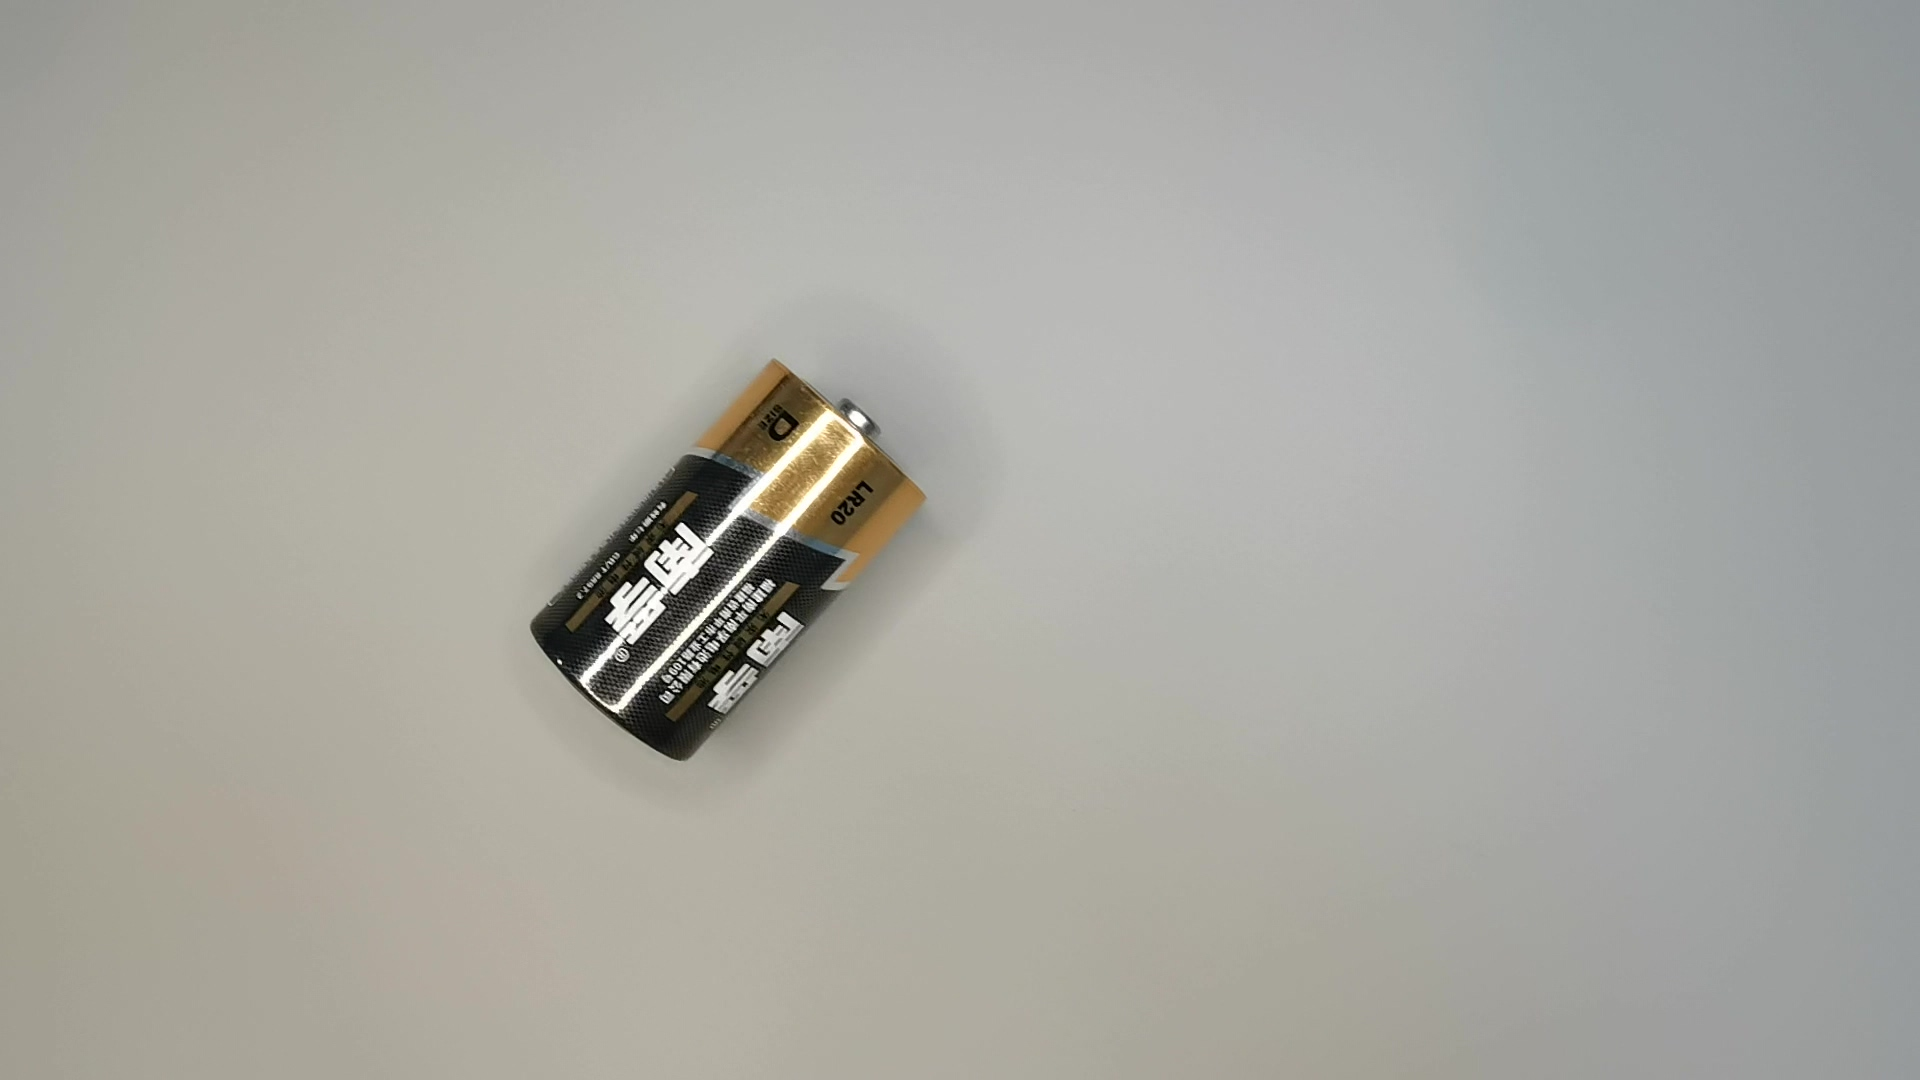battery: (517, 349, 926, 767)
